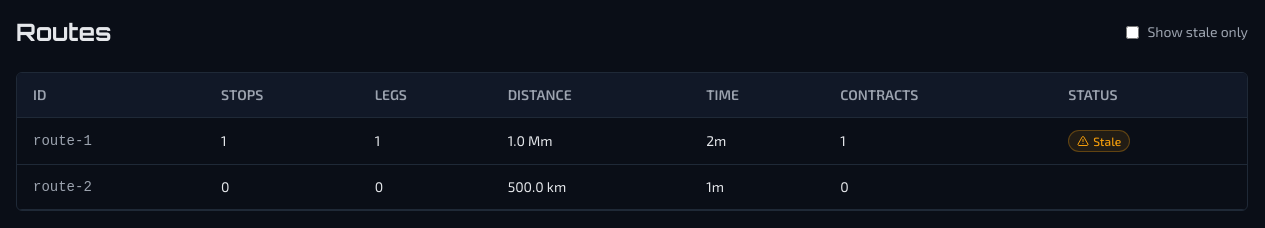
Test: RouteListPage › stale filter hides non-stale routes
Expected: the heading "Routes" is shown, [16,16,111,48]
Expected: the text "route-1" is shown, [17,118,205,164]
Click the checkbox labelled "Show stale only" at (1133, 32), box [1126,26,1139,38]
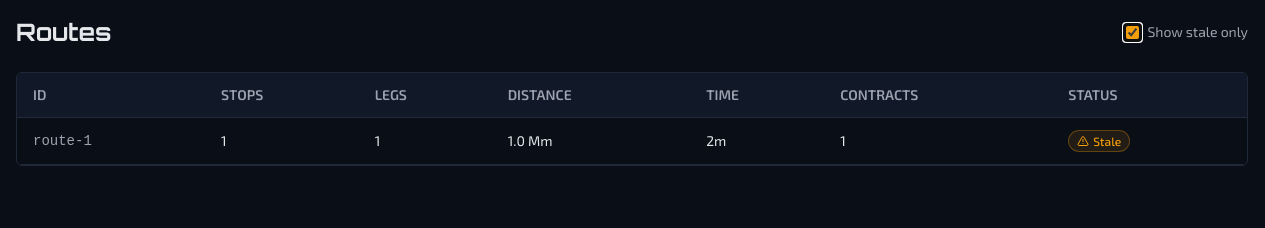
Expected: the text "route-1" is shown, [17,118,205,164]
Now the text "route-2" is gone
